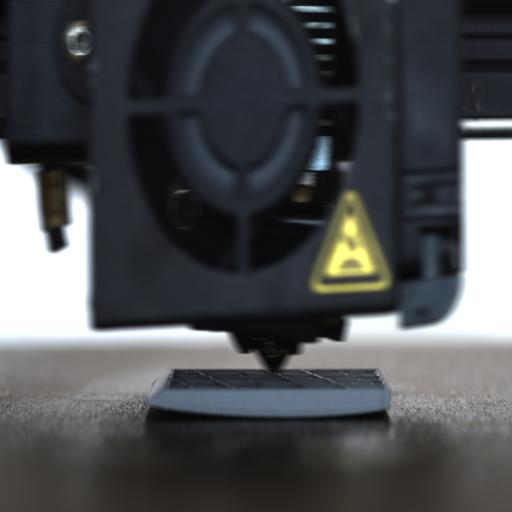warp: (140, 392, 203, 424)
